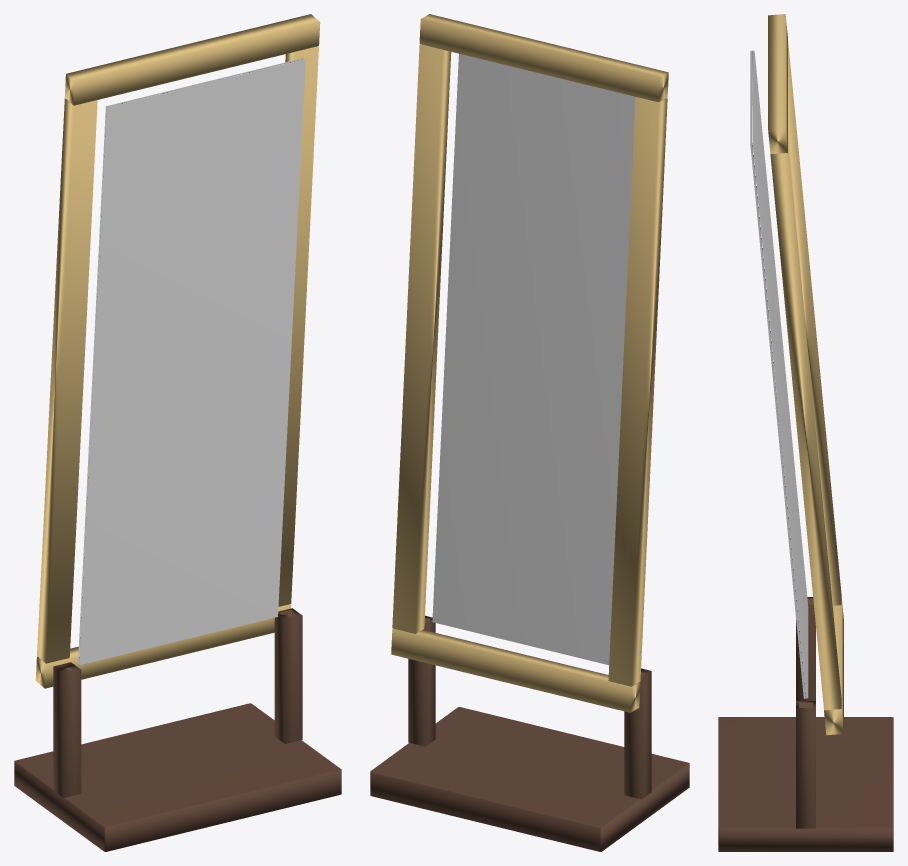
3 renders of one model, left to right at view 1: azimuth 30°, elevation 25°; view 2: azimuth 150°, elevation 25°; view 3: azimuth 270°, elevation 25°, orthographic. The views are drawn at different scales.
Visible parts, largest first — view 1: Mirror_Surface, Frame_Complete, Base, Stand_Complete; view 2: Mirror_Surface, Frame_Complete, Base, Stand_Complete; view 3: Base, Frame_Complete, Mirror_Surface, Stand_Complete.
Part boxes in pixels (bbox=[...]): Mirror_Surface: bbox=[78, 58, 305, 664]; Frame_Complete: bbox=[35, 14, 320, 688]; Base: bbox=[14, 703, 341, 851]; Stand_Complete: bbox=[53, 608, 302, 797]; Mirror_Surface: bbox=[432, 54, 636, 665]; Frame_Complete: bbox=[391, 14, 668, 712]; Base: bbox=[370, 707, 689, 851]; Stand_Complete: bbox=[408, 615, 651, 799]; Base: bbox=[718, 717, 893, 851]; Frame_Complete: bbox=[768, 14, 843, 735]; Mirror_Surface: bbox=[750, 50, 808, 698]; Stand_Complete: bbox=[796, 597, 815, 828].
Bounding box in the file's own units: 0.62 × 1.82 × 0.4.
